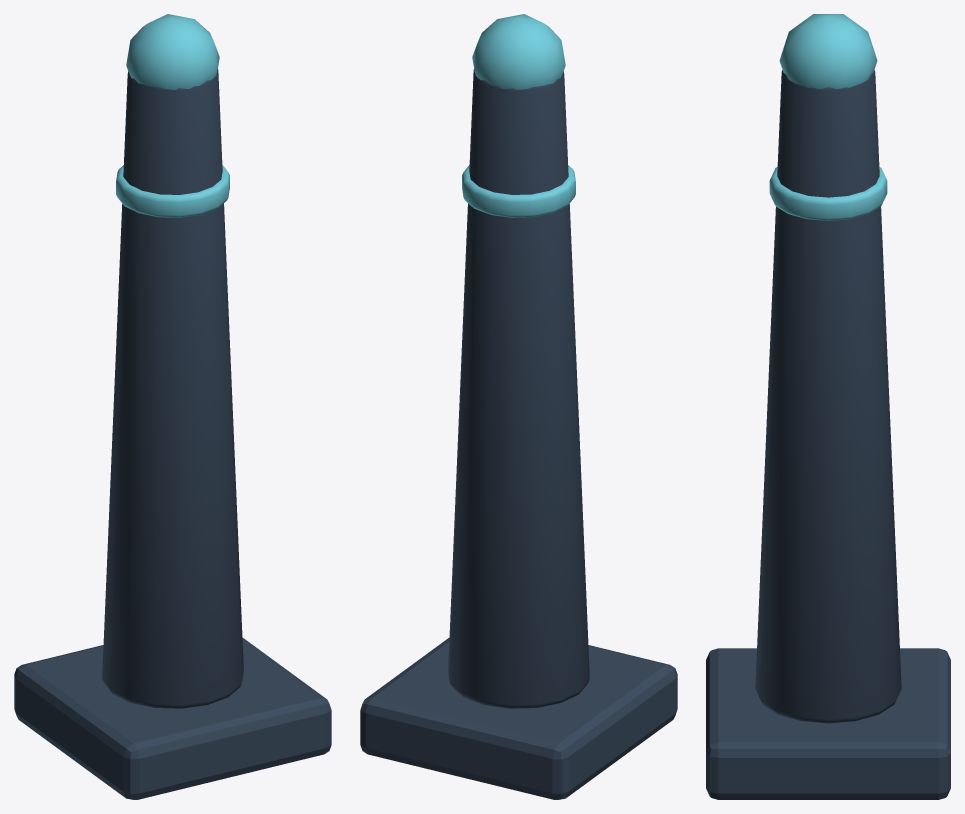
File: HaloPylon.fbx
3 views of the same model, side by side, from view 1: azimuth 30°, elevation 25°; view 2: azimuth 150°, elevation 25°; view 3: azimuth 270°, elevation 25° (orthographic). The views are drawn at different scales.
Visible parts, largest first — view 1: HaloPylon; view 2: HaloPylon; view 3: HaloPylon.
Boxes of the visible parts, box(x1,y1,x2,y2) form: HaloPylon: box(14, 14, 331, 799); HaloPylon: box(360, 14, 677, 799); HaloPylon: box(706, 14, 950, 799).
Bounding box in the file's own units: 1 × 3.32 × 1.
